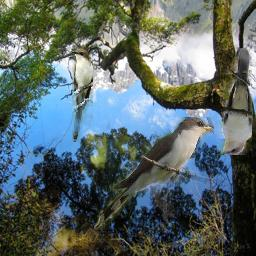Cuckoo: (94, 118, 214, 231), (218, 49, 253, 156), (73, 48, 94, 142)
